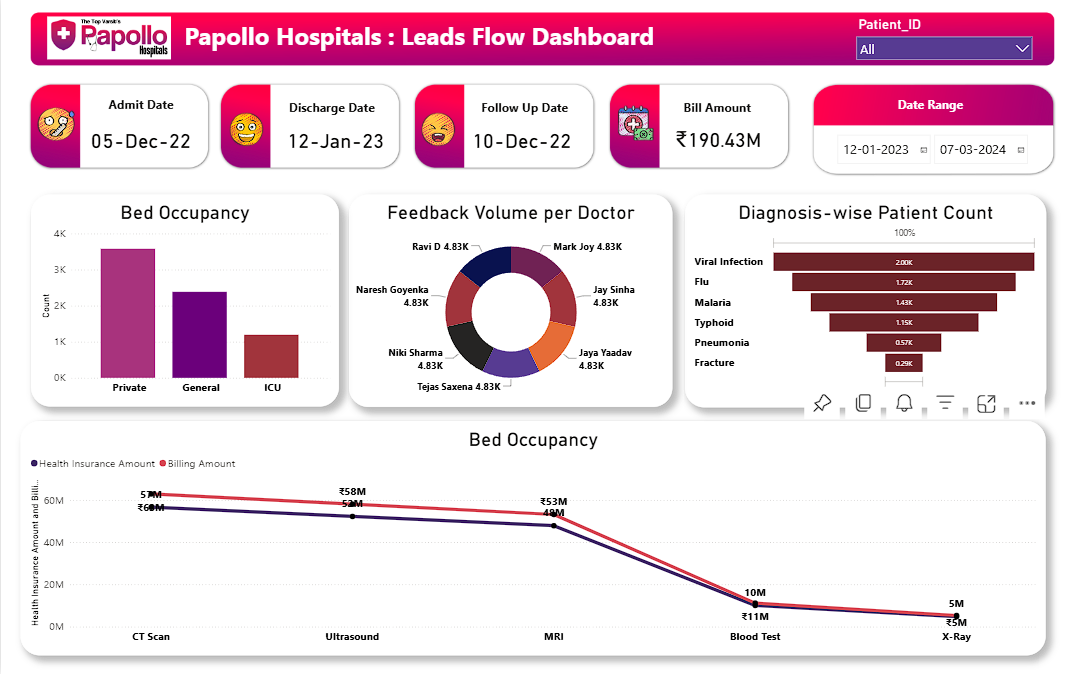

The dashboard page shown, as its layout file describes it:
{"tool":"powerbi","page":{"name":"Page 2","canvas":[1680,1050],"ordinal":0},"visuals":[{"type":"textbox","box":[280,27.1,755.7,74.3],"z":0},{"type":"image","box":[2636.7,100,623.3,150],"z":1000},{"type":"slicer","fields":{"Values":["Sheet1.Patient_ID"]},"box":[2400,373.3,793.3,420],"z":2000},{"type":"card","fields":{"Values":["Min(Sheet1.Admit_Date)"]},"box":[437.6,198.8,162.9,42.8],"z":3000},{"type":"card","fields":{"Values":["Min(Sheet1.Discharge_Date)"]},"box":[129.8,198.8,172.6,42.8],"z":4000},{"type":"card","fields":{"Values":["Min(Sheet1.Followup Date)"]},"box":[724.3,198.6,167.1,42.9],"z":5000},{"type":"textbox","box":[152.9,145.7,127.1,57.1],"z":6000},{"type":"textbox","box":[437.1,151.4,151.4,37.1],"z":7000},{"type":"textbox","box":[732.9,151.4,158.6,37.1],"z":8000},{"type":"textbox","box":[1035.7,151.4,151.4,37.1],"z":9000},{"type":"card","fields":{"Values":["Sum(Sheet1.Billing Amount)"]},"box":[1031.4,194.3,158.6,42.9],"z":10000},{"type":"image","box":[50,157.1,68.6,74.3],"z":11000},{"type":"image","box":[348.6,172.9,62.9,62.9],"z":12000},{"type":"image","box":[640,171.4,77.1,62.9],"z":13000},{"type":"image","box":[951.4,158.6,65.7,71.4],"z":14000},{"type":"columnChart","title":"Bed Occupancy","fields":{"Category":["Sheet1.Bed_Occupancy"],"Y":["CountNonNull(Sheet1.Bed_Occupancy)"]},"box":[47.1,305.7,477.1,328.6],"z":15000},{"type":"donutChart","title":"Feedback Volume per Doctor","fields":{"Category":["Sheet1.Doctor"],"Y":["Sum(Sheet1.Feedback)"]},"box":[540.2,305.2,501,329.5],"z":16000},{"type":"funnel","title":"Diagnosis-wise Patient Count","fields":{"Category":["Sheet1.Diagnosis"],"Y":["CountNonNull(Sheet1.Diagnosis)"]},"box":[1060,305.7,560,330],"z":17000},{"type":"image","box":[30,24.3,274.3,77.1],"z":18000},{"type":"lineChart","title":"Bed Occupancy","fields":{"Y":["Sum(Sheet1.Health Insurance Amount)","Sum(Sheet1.Billing Amount)"],"Category":["Sheet1.Test"]},"box":[31.1,656.3,1589.5,363.3],"z":19000},{"type":"slicer","fields":{"Values":["Sheet1.Admit_Date"]},"box":[1284.3,201.2,360.6,68.9],"z":20000},{"type":"slicer","fields":{"Values":["Sheet1.Patient_ID"]},"box":[1317.1,24.3,292.9,82.9],"z":21000},{"type":"textbox","box":[1365.7,145.7,151.4,37.1],"z":22000}]}

Visuals, with their boxes in screenshot pixels (x1, y1, x2, y2), scaled from the page's 1680x1050 canvas onto the 1083x674 screenshot:
textbox: box(180, 17, 668, 65)
card - Min(Sheet1.Admit_Date): box(282, 128, 387, 155)
card - Min(Sheet1.Discharge_Date): box(84, 128, 195, 155)
card - Min(Sheet1.Followup Date): box(467, 127, 575, 155)
textbox: box(99, 94, 180, 130)
textbox: box(282, 97, 379, 121)
textbox: box(472, 97, 575, 121)
textbox: box(668, 97, 765, 121)
card - Sum(Sheet1.Billing Amount): box(665, 125, 767, 152)
image: box(32, 101, 76, 149)
image: box(225, 111, 265, 151)
image: box(413, 110, 462, 150)
image: box(613, 102, 656, 148)
"Bed Occupancy" columnChart: box(30, 196, 338, 407)
"Feedback Volume per Doctor" donutChart: box(348, 196, 671, 407)
"Diagnosis-wise Patient Count" funnel: box(683, 196, 1044, 408)
image: box(19, 16, 196, 65)
"Bed Occupancy" lineChart: box(20, 421, 1045, 654)
slicer - Sheet1.Admit_Date: box(828, 129, 1060, 173)
slicer - Sheet1.Patient_ID: box(849, 16, 1038, 69)
textbox: box(880, 94, 978, 117)
